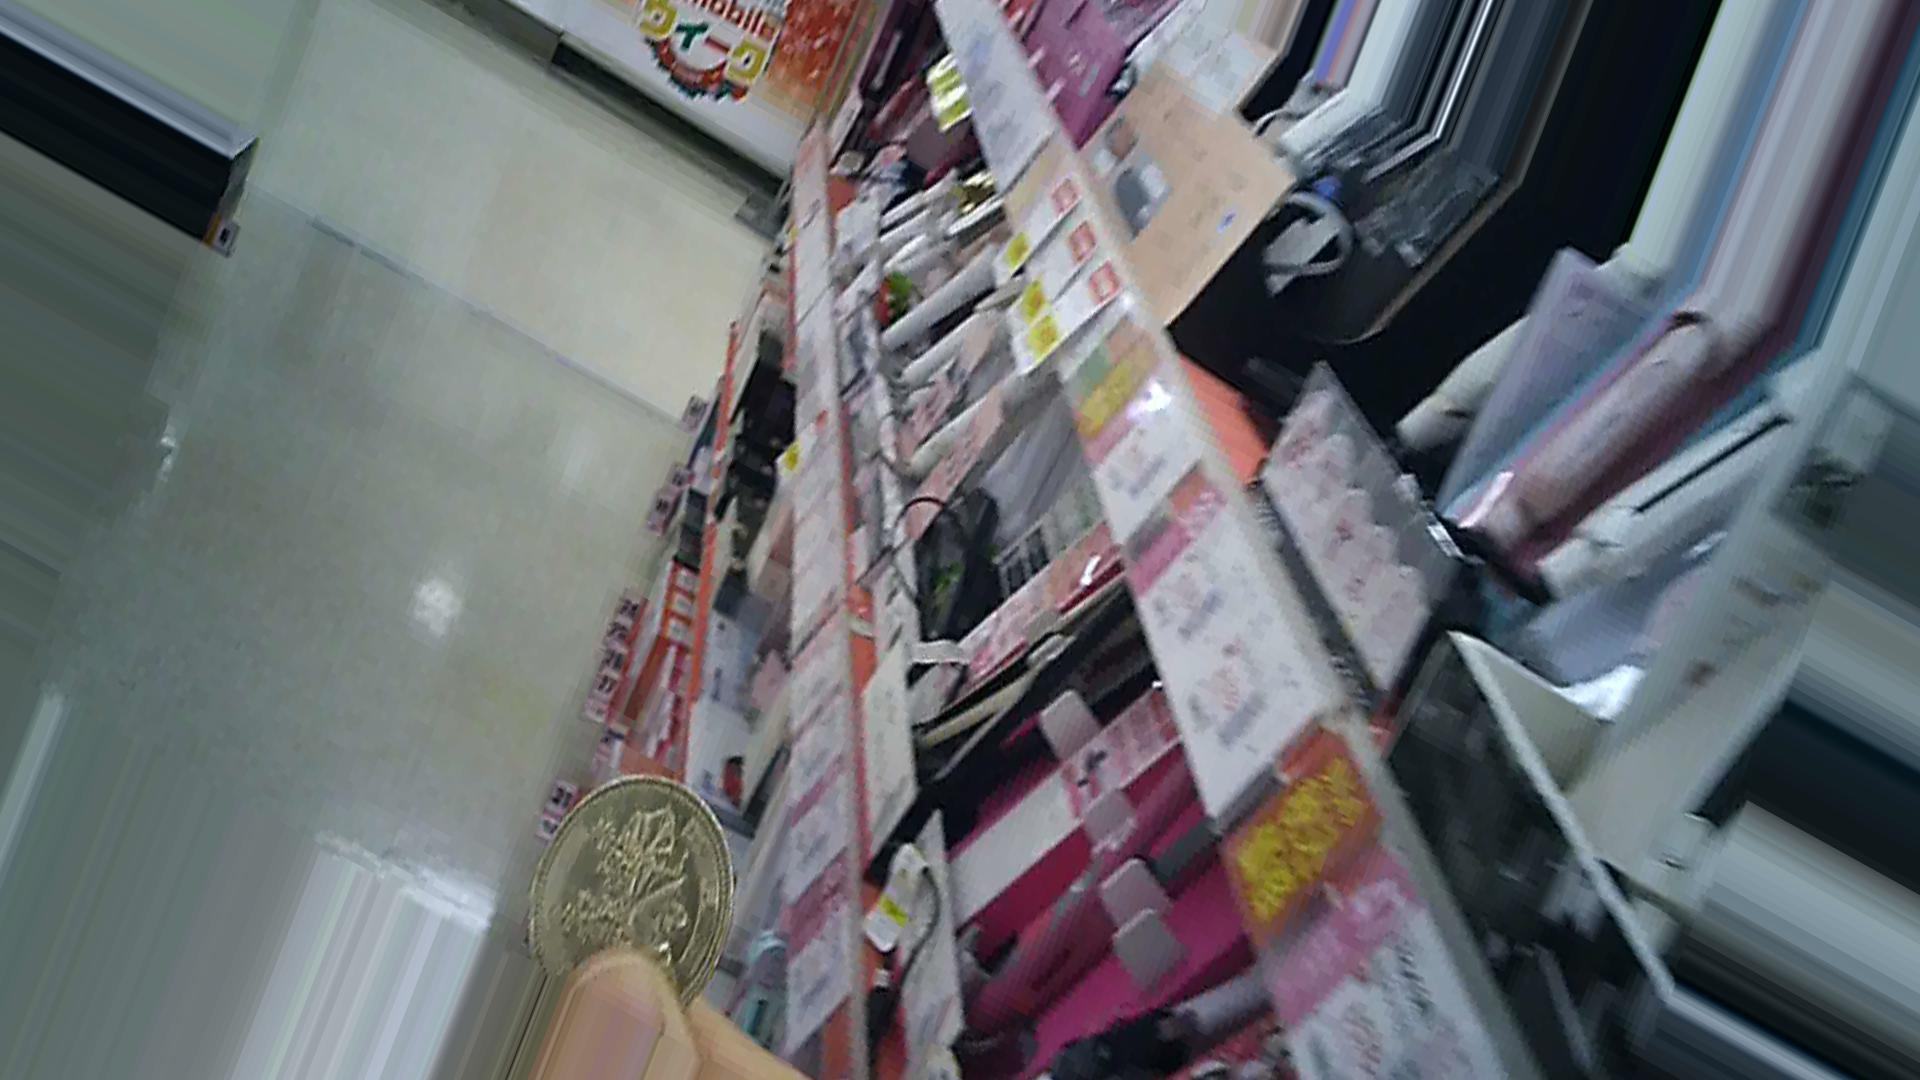500 Yen: (517, 766, 746, 1010)
